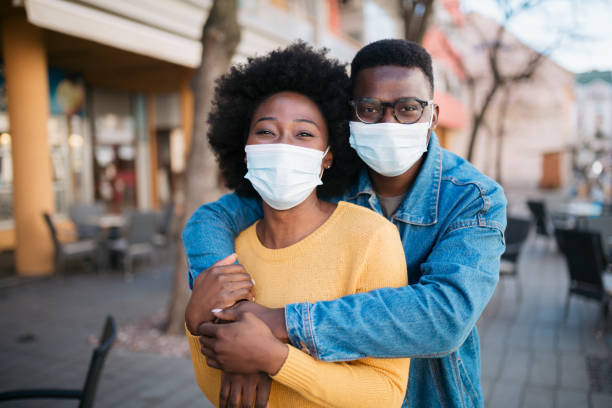with mask: (343, 36, 440, 177), (235, 98, 337, 208)
